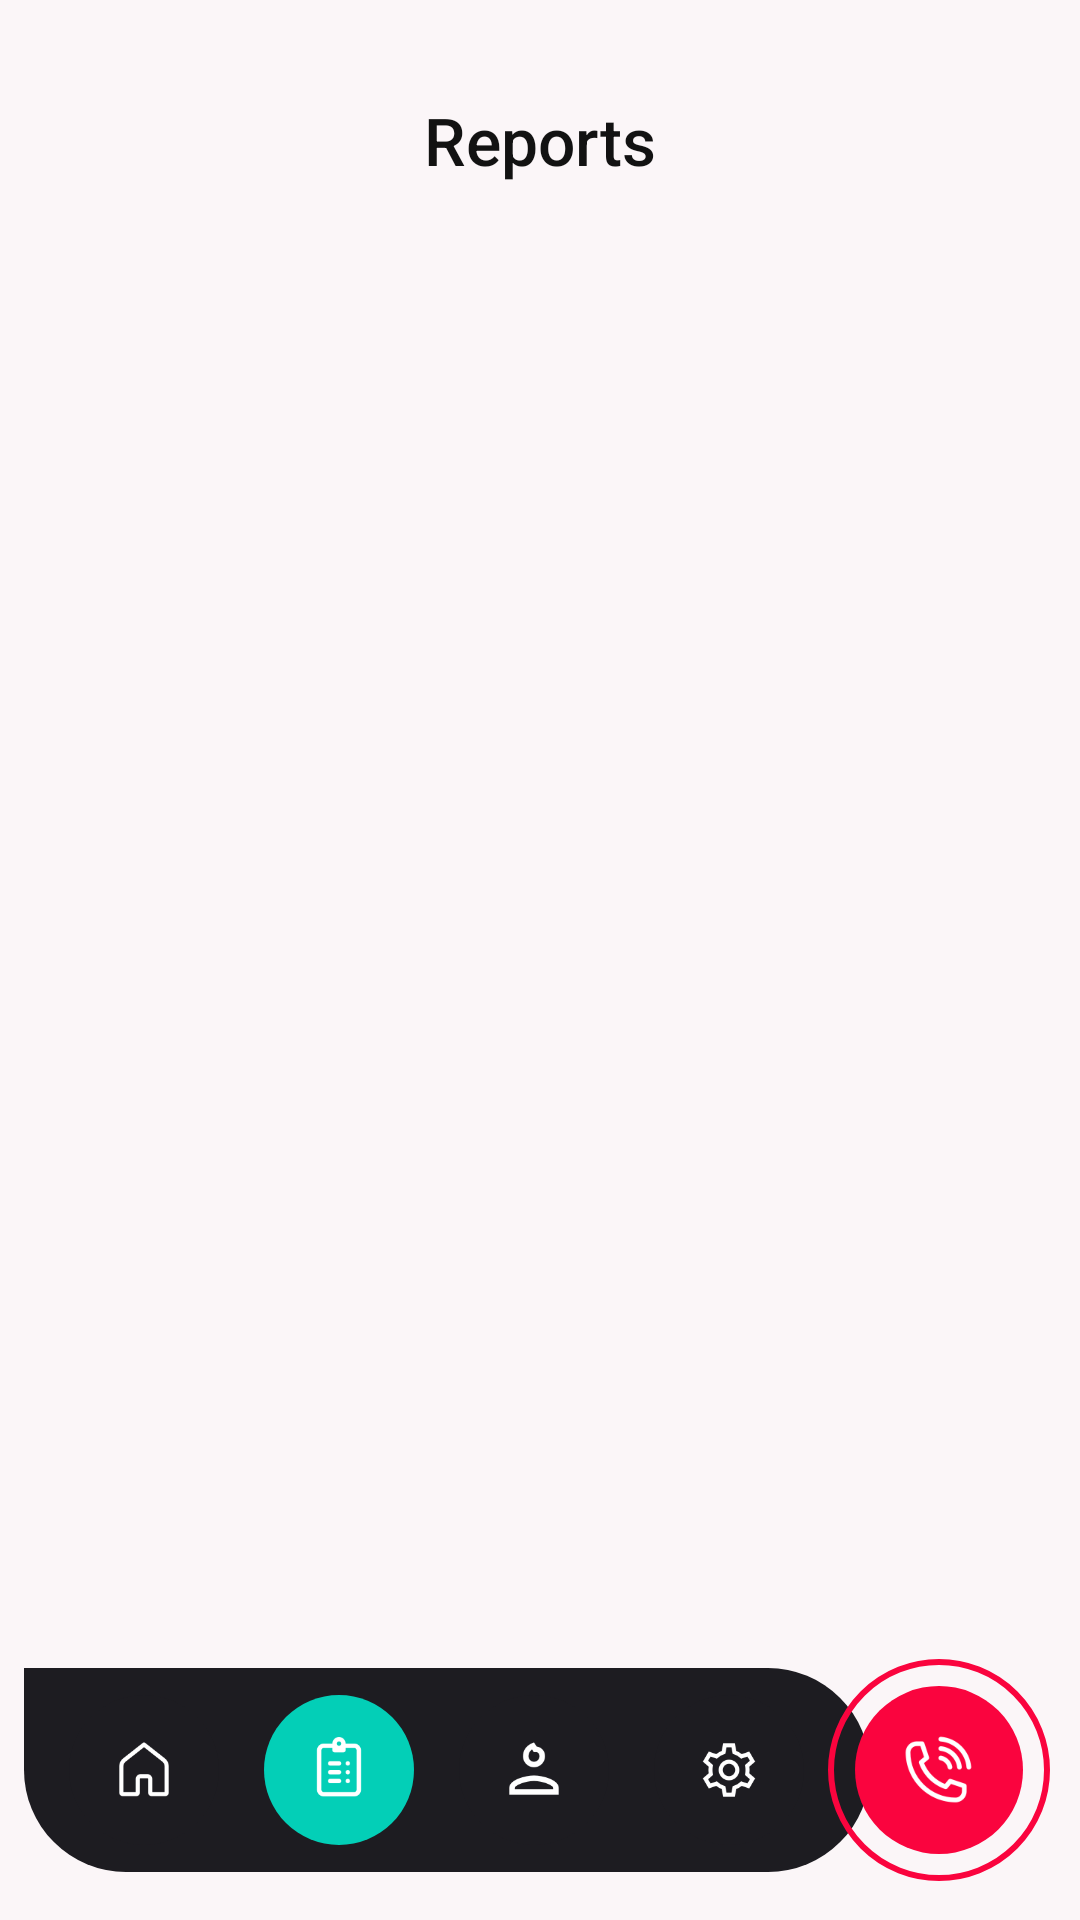

Named icons in this screenshot (1080×1920) and their centers, [x,y]:
call: [938,1769]
home: [144,1769]
profile: [534,1768]
report: [339,1767]
settings: [729,1770]
